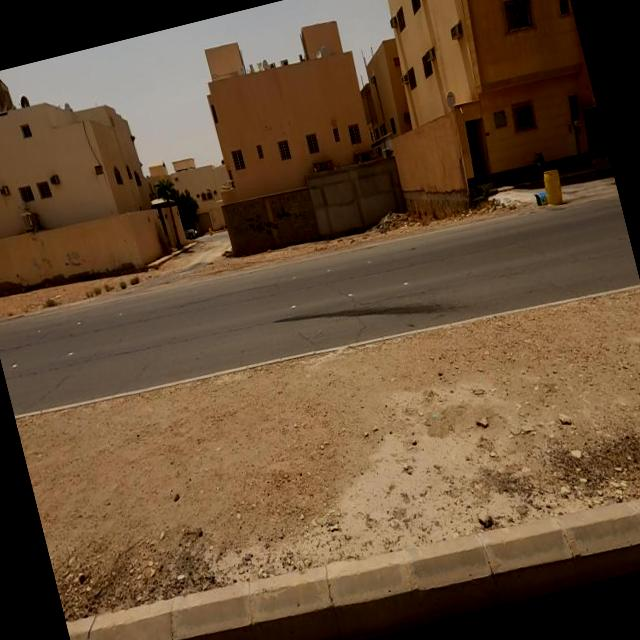debris: (214, 184, 296, 272), (506, 158, 572, 247), (259, 177, 314, 241), (476, 180, 532, 236)
